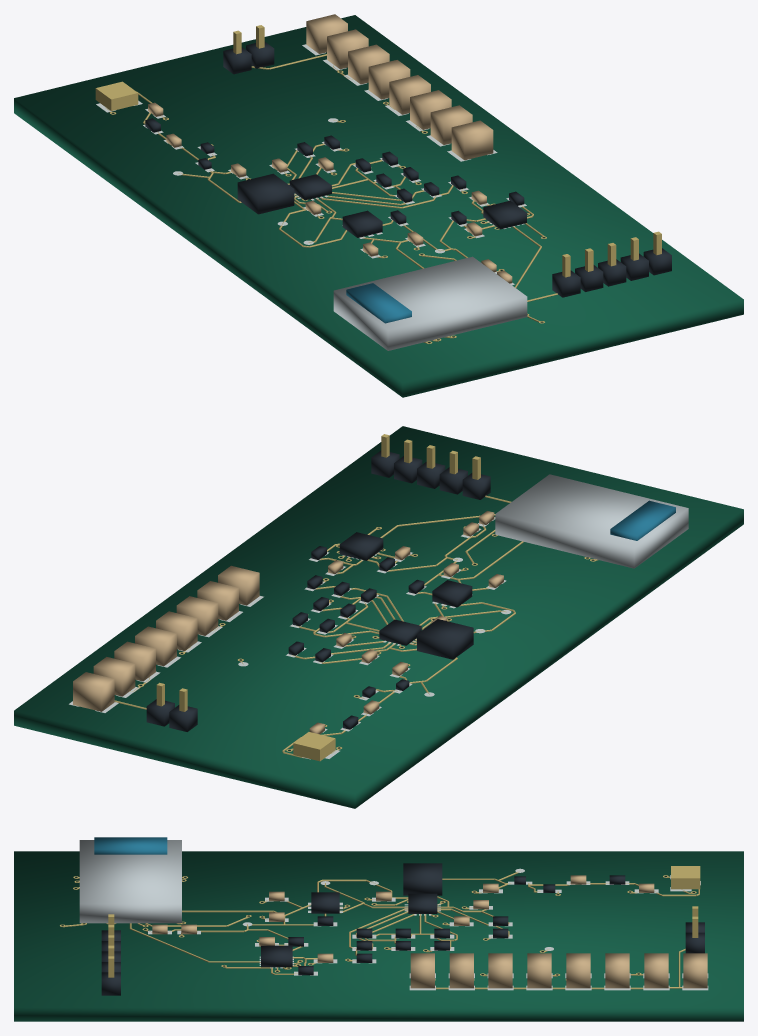
File: electronics_868.glb
The picture shows the model from 3 angles, top to bottom: view 1: azimuth 30°, elevation 25°; view 2: azimuth 150°, elevation 25°; view 3: azimuth 270°, elevation 25°; orthographic projection. The views are drawn at different scales.
Parts seen in each view (by area): view 1: Renderer Node; view 2: Renderer Node; view 3: Renderer Node.
Boxes of the visible parts, <box> form: Renderer Node: <box>14,14,743,397</box>; Renderer Node: <box>14,426,743,808</box>; Renderer Node: <box>14,837,743,1021</box>.
Bounding box in the file's own units: 0.038 × 0.00564 × 0.075.
